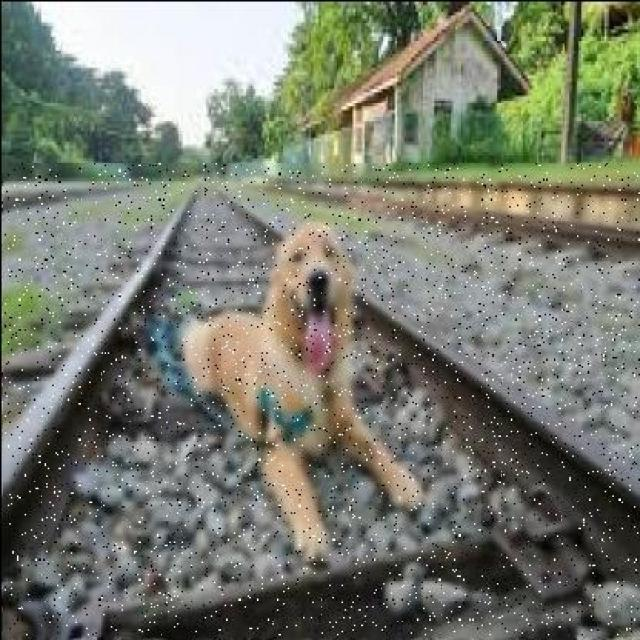danger: (132, 212, 425, 550)
rail: (3, 163, 638, 634)
